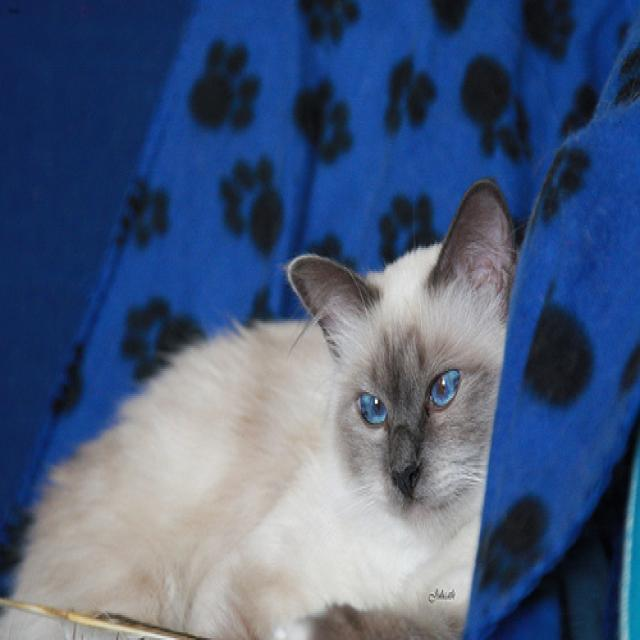cat: (286, 177, 514, 536)
